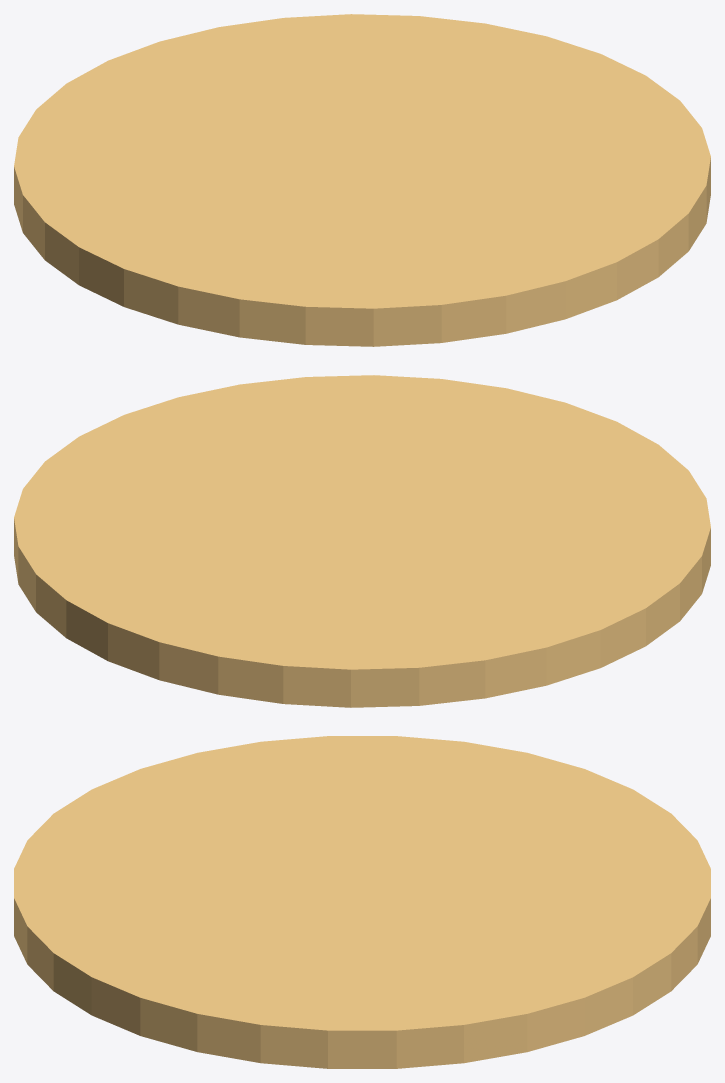
Rendered from model1_Pioneer_p3dx_visible_vis_18.dae.
The picture shows the model from 3 angles, top to bottom: view 1: azimuth 30°, elevation 25°; view 2: azimuth 150°, elevation 25°; view 3: azimuth 270°, elevation 25°; orthographic projection.
Visible parts, largest first — view 1: Node_0x71f3adc15b60; view 2: Node_0x71f3adc15b60; view 3: Node_0x71f3adc15b60.
Part boxes in pixels (x1=…): Node_0x71f3adc15b60: x1=14, y1=14, x2=710, y2=346; Node_0x71f3adc15b60: x1=14, y1=375, x2=710, y2=707; Node_0x71f3adc15b60: x1=14, y1=736, x2=710, y2=1068.
Bounding box in the file's own units: 0.0355 × 0.00215 × 0.0355.
